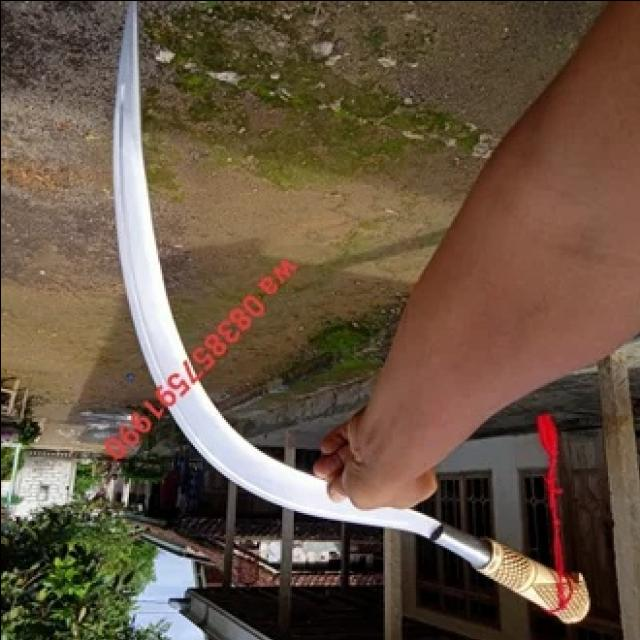Celurit: (108, 2, 589, 628)
